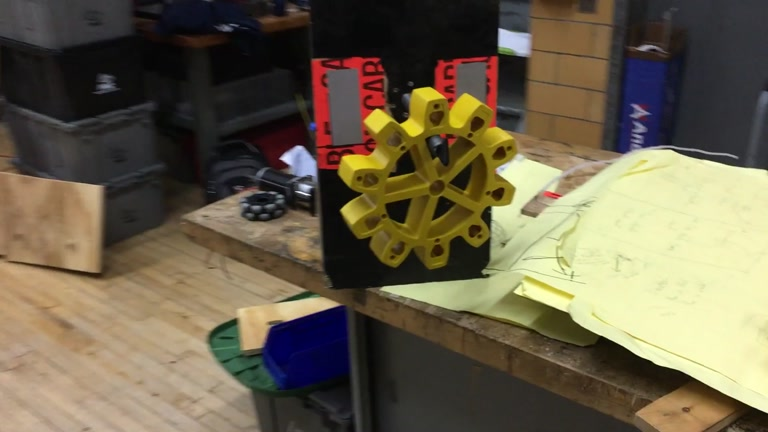gear: (337, 85, 521, 271)
